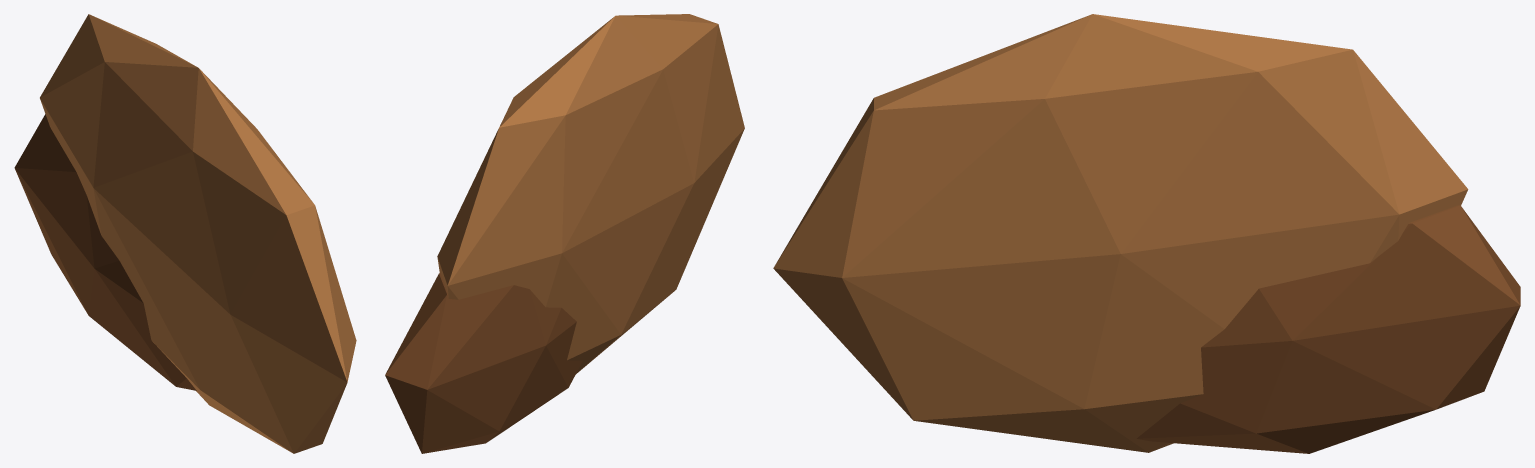
File: chicken_1_wing_l.glb
3 renders of one model, left to right at view 1: azimuth 30°, elevation 25°; view 2: azimuth 150°, elevation 25°; view 3: azimuth 270°, elevation 25°, orthographic. The views are drawn at different scales.
Parts seen in each view (by area): view 1: chicken_1_wing_l; view 2: chicken_1_wing_l; view 3: chicken_1_wing_l.
Part boxes in pixels (box(x1,y1,x2,y2)): chicken_1_wing_l: box(14, 14, 356, 453); chicken_1_wing_l: box(385, 14, 744, 453); chicken_1_wing_l: box(773, 14, 1520, 453).
Bounding box in the file's own units: 0.0397 × 0.1485 × 0.2394.
